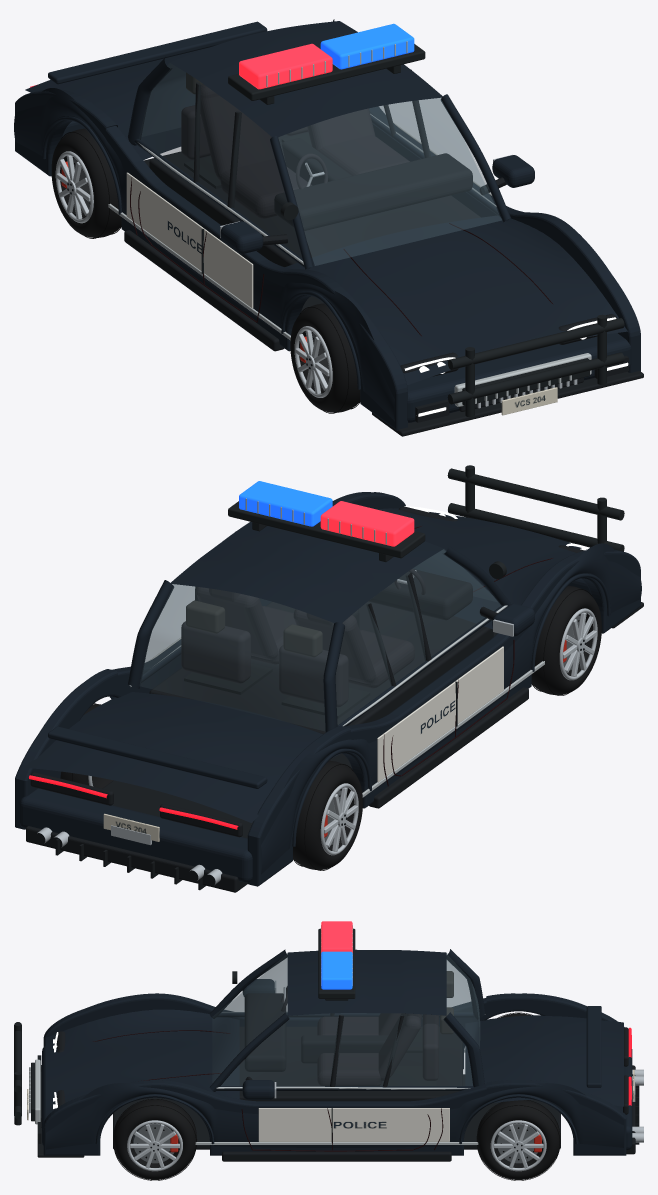
File: police-sedan-detailed-v3.glb
3 views of the same model, one above another, from view 1: azimuth 30°, elevation 25°; view 2: azimuth 150°, elevation 25°; view 3: azimuth 270°, elevation 25° (orthographic). The views are drawn at different scales.
Parts seen in each view (by area): view 1: Patrol_Black_Clearcoat, Smoked_Automotive_Glass, Graphite_Trim (×2), Charcoal_Leather, Performance_Rubber (×2), Police_White_Clearcoat, Forged_Aluminium (×2), Polished_Aluminium, Emergency_Red, Emergency_Blue, Police_Marking, Panel_Shut_Lines (+1 smaller); view 2: Patrol_Black_Clearcoat, Graphite_Trim (×2), Smoked_Automotive_Glass, Charcoal_Leather (×2), Performance_Rubber (×2), Forged_Aluminium (×3), Police_White_Clearcoat, Emergency_Red, Emergency_Blue, Polished_Aluminium, Police_Marking, LED_Rear_Lights (+2 smaller); view 3: Patrol_Black_Clearcoat, Smoked_Automotive_Glass, Graphite_Trim (×2), Performance_Rubber (×2), Charcoal_Leather (×2), Police_White_Clearcoat, Forged_Aluminium (×3), Polished_Aluminium, Police_Marking, Ventilated_Brake_Disc (×2), Emergency_Blue, Emergency_Red (+2 smaller).
Part boxes in pixels (x1=…): Patrol_Black_Clearcoat: x1=14, y1=19, x2=640, y2=430; Smoked_Automotive_Glass: x1=139, y1=63, x2=501, y2=265; Graphite_Trim (×2): x1=124, y1=44, x2=643, y2=436; Charcoal_Leather: x1=181, y1=84, x2=409, y2=218; Performance_Rubber (×2): x1=51, y1=128, x2=360, y2=412; Police_White_Clearcoat: x1=126, y1=122, x2=491, y2=308; Forged_Aluminium (×2): x1=55, y1=151, x2=332, y2=397; Polished_Aluminium: x1=108, y1=41, x2=591, y2=406; Emergency_Red: x1=239, y1=43, x2=332, y2=89; Emergency_Blue: x1=320, y1=23, x2=414, y2=69; Police_Marking: x1=150, y1=202, x2=219, y2=273; Panel_Shut_Lines: x1=130, y1=177, x2=553, y2=336; Patrol_Black_Clearcoat: x1=15, y1=492, x2=641, y2=886; Graphite_Trim (×2): x1=26, y1=465, x2=643, y2=892; Smoked_Automotive_Glass: x1=140, y1=549, x2=501, y2=730; Charcoal_Leather (×2): x1=181, y1=569, x2=425, y2=707; Performance_Rubber (×2): x1=293, y1=586, x2=601, y2=869; Forged_Aluminium (×3): x1=37, y1=570, x2=597, y2=884; Police_White_Clearcoat: x1=149, y1=638, x2=503, y2=782; Emergency_Red: x1=320, y1=501, x2=414, y2=546; Emergency_Blue: x1=239, y1=481, x2=332, y2=526; Polished_Aluminium: x1=129, y1=498, x2=544, y2=797; Police_Marking: x1=403, y1=681, x2=472, y2=753; LED_Rear_Lights: x1=29, y1=775, x2=238, y2=829; Patrol_Black_Clearcoat: x1=42, y1=949, x2=632, y2=1155; Smoked_Automotive_Glass: x1=212, y1=953, x2=480, y2=1085; Graphite_Trim (×2): x1=14, y1=928, x2=639, y2=1161; Performance_Rubber (×2): x1=113, y1=1099, x2=560, y2=1179; Charcoal_Leather (×2): x1=281, y1=971, x2=453, y2=1085; Police_White_Clearcoat: x1=258, y1=1108, x2=449, y2=1141; Forged_Aluminium (×3): x1=127, y1=981, x2=643, y2=1171; Polished_Aluminium: x1=29, y1=925, x2=494, y2=1144; Police_Marking: x1=308, y1=1117, x2=412, y2=1133; Ventilated_Brake_Disc (×2): x1=133, y1=1123, x2=537, y2=1163; Emergency_Blue: x1=321, y1=951, x2=352, y2=989; Emergency_Red: x1=321, y1=921, x2=352, y2=952.
Size of the model in its own units: 2.26 by 1.76 by 5.43.
Materials: 23 (4 with a texture image).
